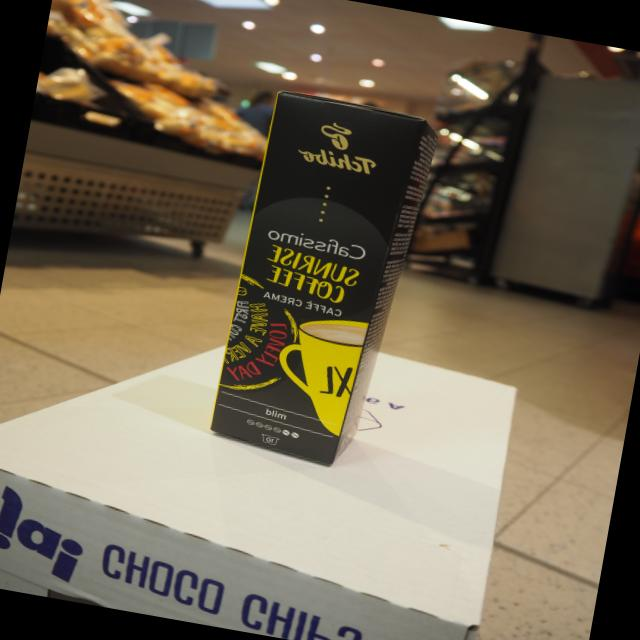Simo Sunrise: (207, 87, 424, 469)
